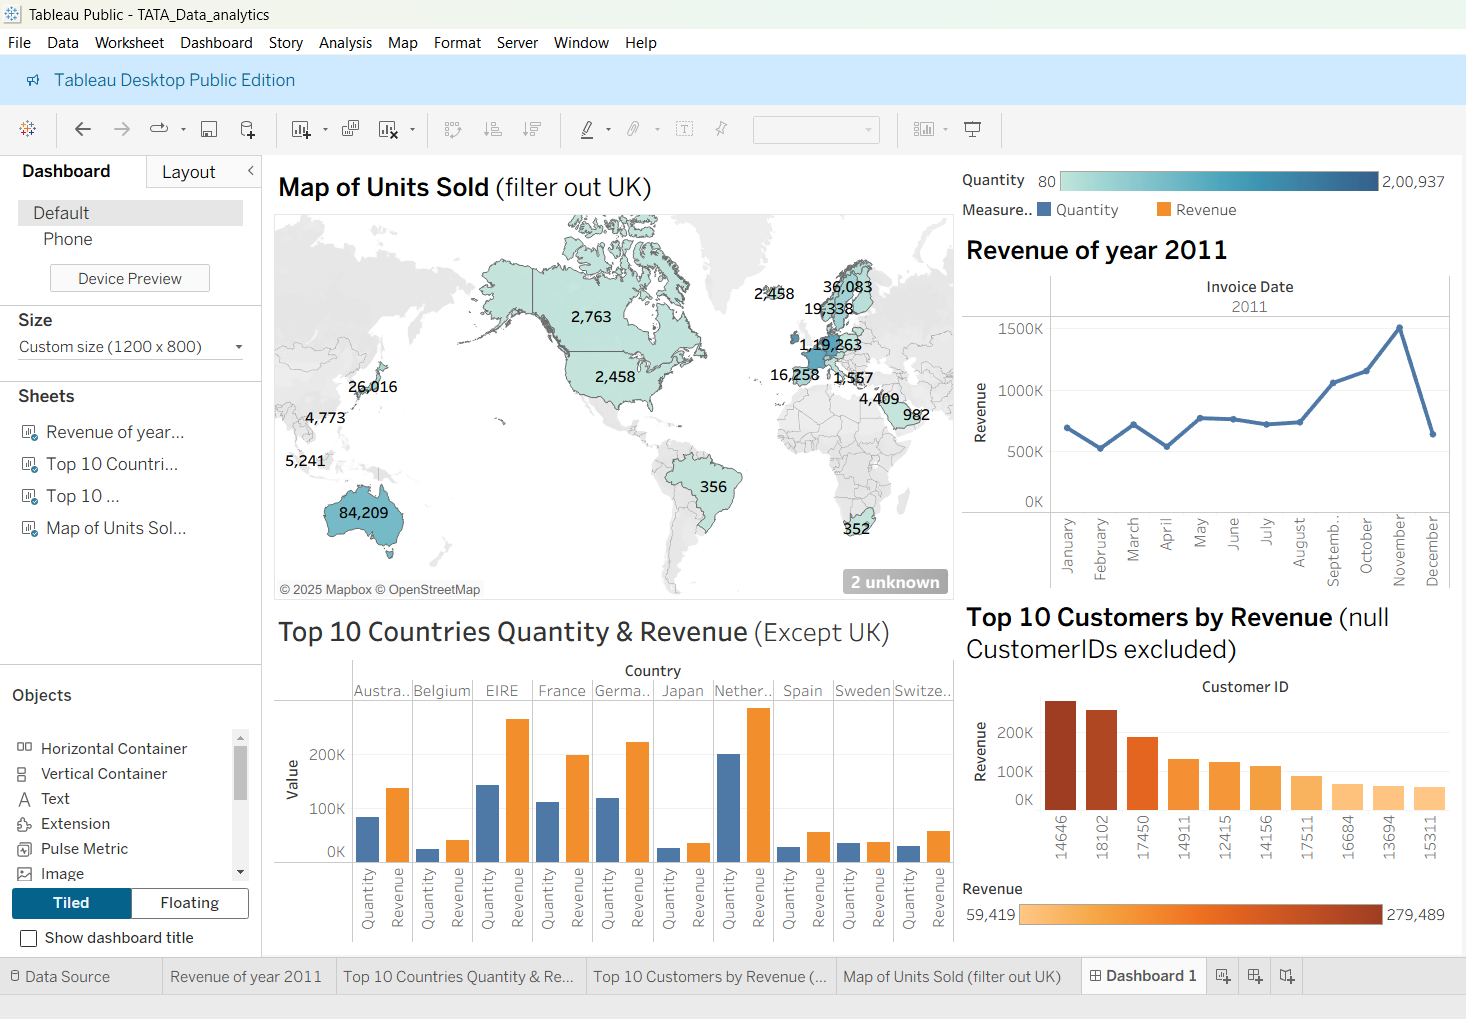

What the dashboard file says about the page in this screenshot:
{"tool":"tableau","page":{"name":"Dashboard 1","canvas":[1200,800],"ordinal":0},"visuals":[{"type":"worksheet","title":"Map of Units Sold (filter out UK)","mark":"Automatic","box":[8,8,687.9,441]},{"type":"legend","title":"Map of Units Sold (filter out UK)","param":"[federated.1p059gk0xw1grv1bwtkbd09ee2uq].[sum:Quantity:qk]","box":[695.9,8,496,32]},{"type":"legend","title":"Top 10 Countries Quantity & Revenue (Except UK)","param":"[federated.1p059gk0xw1grv1bwtkbd09ee2uq].[:Measure Names]","box":[695.9,40,496,32]},{"type":"worksheet","title":"Revenue of year 2011","mark":"Line","rows":["Calculation_2578592295951179776"],"cols":["InvoiceDate","InvoiceDate"],"box":[695.9,72,496,366]},{"type":"worksheet","title":"Top 10 Customers by Revenue (exclude null CustomerIDs)","mark":"Automatic","rows":["Calculation_2578592295951179776"],"cols":["CustomerID"],"box":[695.9,438,496,281]},{"type":"worksheet","title":"Top 10 Countries Quantity & Revenue (Except UK)","mark":"Bar","cols":["Country"],"box":[8,449,687.9,343]},{"type":"legend","title":"Top 10 Customers by Revenue (exclude null CustomerIDs)","param":"[federated.1p059gk0xw1grv1bwtkbd09ee2uq].[sum:Calculation_2578592295951179776:qk","box":[695.9,719,496,73]}]}

Visuals, with their boxes on the page's 1200x800 design canvas (x1, y1, x2, y2). These are canvas units, not pixel positions in the 1466x1019 screenshot, which may show the page scaled, cropped or inside an application window:
"Map of Units Sold (filter out UK)" worksheet: 8,8,696,449
"Map of Units Sold (filter out UK)" legend: 696,8,1192,40
"Top 10 Countries Quantity & Revenue (Except UK)" legend: 696,40,1192,72
"Revenue of year 2011" worksheet (Line marks): 696,72,1192,438
"Top 10 Customers by Revenue (exclude null CustomerIDs)" worksheet: 696,438,1192,719
"Top 10 Countries Quantity & Revenue (Except UK)" worksheet (Bar marks): 8,449,696,792
"Top 10 Customers by Revenue (exclude null CustomerIDs)" legend: 696,719,1192,792
